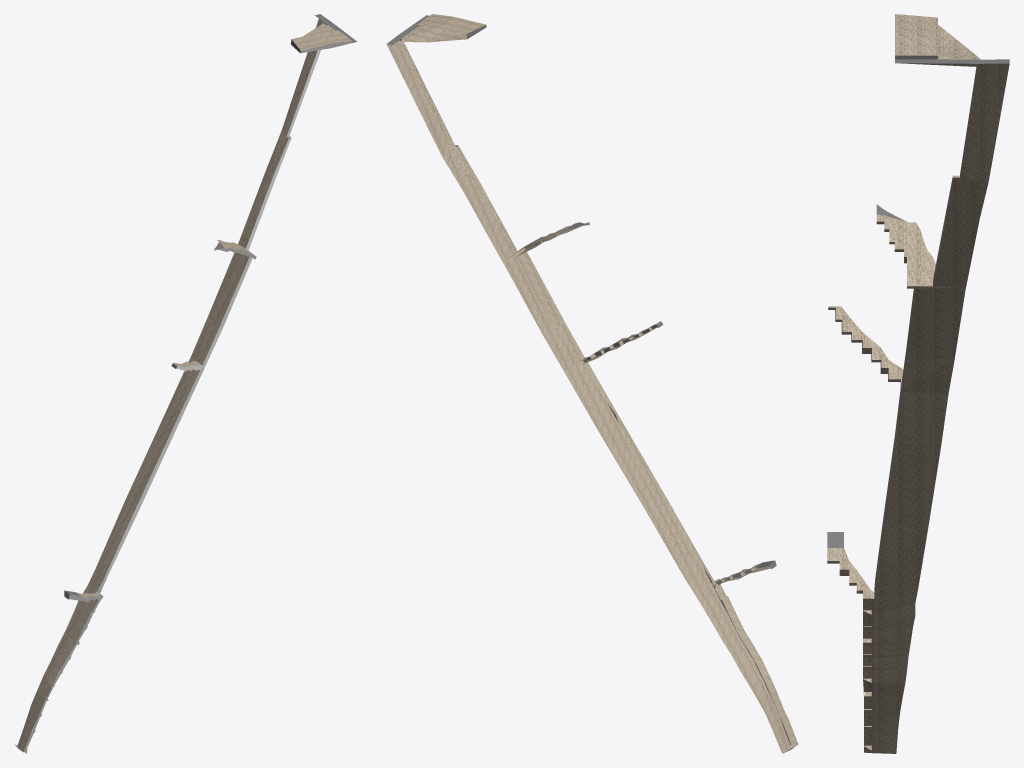
Rendered from Pika_jala_myyr_2-origo.obj.
3 views of the same model, side by side, from view 1: azimuth 30°, elevation 25°; view 2: azimuth 150°, elevation 25°; view 3: azimuth 270°, elevation 25° (orthographic). The views are drawn at different scales.
Visible parts, largest first — view 1: Pika_jala_myyr_2; view 2: Pika_jala_myyr_2; view 3: Pika_jala_myyr_2.
Boxes of the visible parts, x1,y1,x2,y2 form: Pika_jala_myyr_2: (15, 14, 357, 753); Pika_jala_myyr_2: (386, 14, 798, 753); Pika_jala_myyr_2: (827, 14, 1009, 753).
Size of the model in its own units: 75.31 by 130 by 22.73.
Materials: 3 (2 with a texture image).
